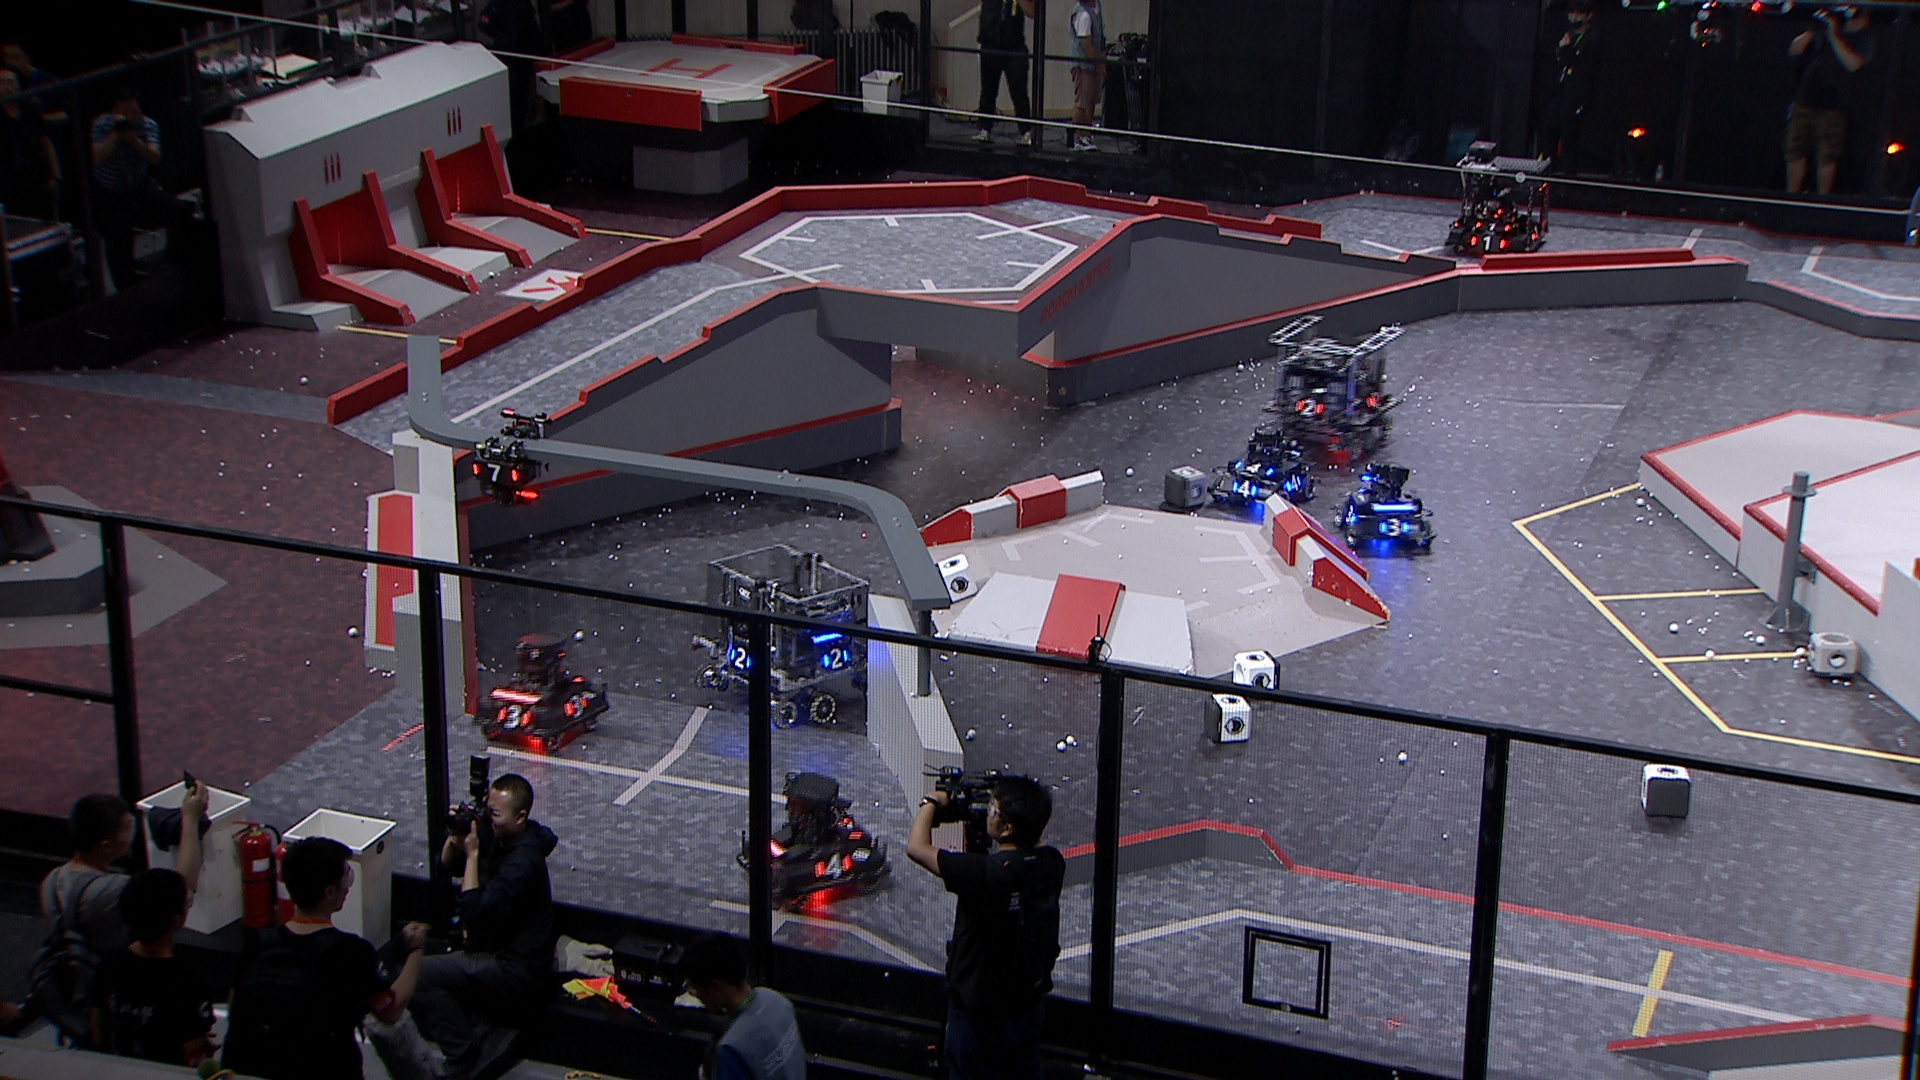armor: (814, 851, 852, 882), (469, 462, 522, 484), (496, 704, 533, 732), (1468, 233, 1509, 253), (822, 647, 851, 673), (1379, 517, 1414, 538), (1233, 460, 1273, 477), (728, 647, 754, 673), (562, 694, 589, 717), (1296, 398, 1327, 419), (1232, 479, 1258, 501), (1474, 220, 1513, 233), (1342, 504, 1360, 527), (1284, 473, 1302, 495), (1367, 390, 1385, 409), (1528, 224, 1543, 243)
car: (692, 543, 880, 728), (732, 766, 891, 918), (1263, 315, 1404, 458), (468, 632, 618, 756), (1443, 140, 1556, 261), (1205, 423, 1321, 513), (1335, 462, 1437, 555)
watcher: (469, 410, 553, 506)
